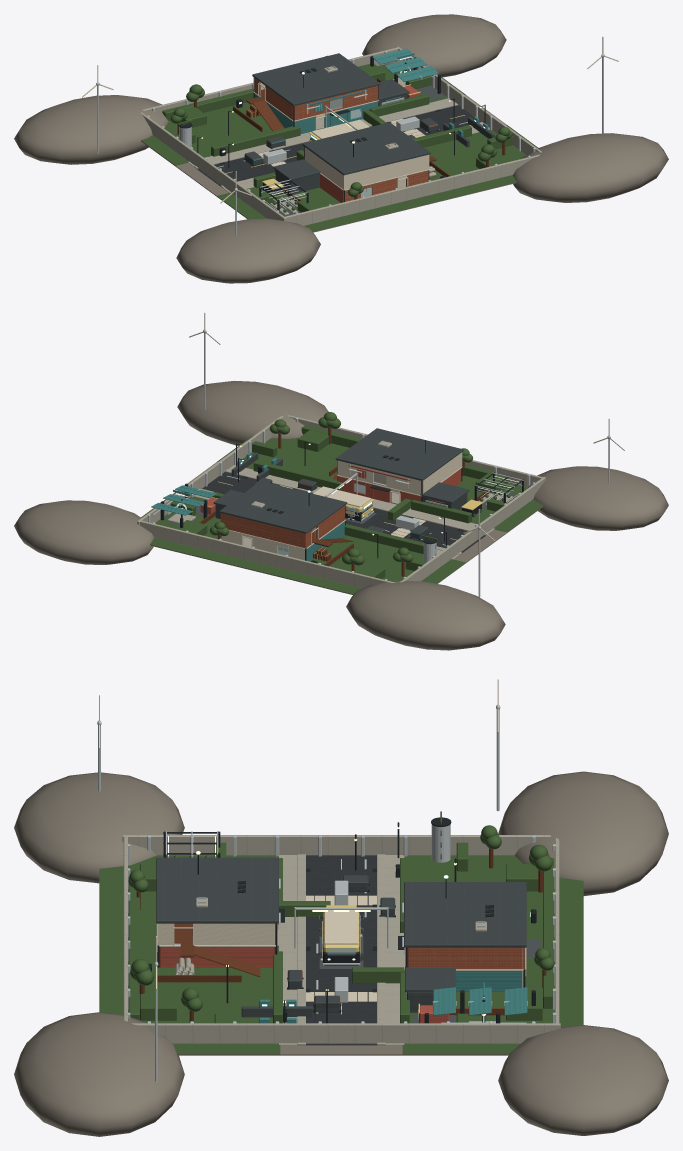
The model's file is atomic-acres-blender-arena.glb.
3 views of the same model, one above another, from view 1: azimuth 30°, elevation 25°; view 2: azimuth 150°, elevation 25°; view 3: azimuth 270°, elevation 25° (orthographic). The views are drawn at different scales.
Visible parts, largest first — view 1: BLD_BATCH_MAT_earth_edge, BLD_BATCH_MAT_roof_shingles, BLD_BATCH_MAT_ground_olive, BLD_BATCH_MAT_boundary_warm_concrete, BLD_BATCH_MAT_foliage_military, BLD_BATCH_MAT_brushed_alloy, BLD_BATCH_MAT_aqua_oxidized, BLD_BATCH_MAT_concrete_weathered, BLD_BATCH_MAT_asphalt_charcoal, BLD_BATCH_MAT_coral_upper_plaster, BLD_BATCH_MAT_trim_bone, BLD_BATCH_MAT_concrete_dark (+4 smaller); view 2: BLD_BATCH_MAT_earth_edge, BLD_BATCH_MAT_roof_shingles, BLD_BATCH_MAT_boundary_warm_concrete, BLD_BATCH_MAT_ground_olive, BLD_BATCH_MAT_foliage_military, BLD_BATCH_MAT_brushed_alloy, BLD_BATCH_MAT_asphalt_charcoal, BLD_BATCH_MAT_concrete_weathered, BLD_BATCH_MAT_aqua_upper_brick, BLD_BATCH_MAT_trim_bone, BLD_BATCH_MAT_coral_upper_plaster, BLD_BATCH_MAT_gunmetal (+5 smaller); view 3: BLD_BATCH_MAT_earth_edge, BLD_BATCH_MAT_ground_olive, BLD_BATCH_MAT_roof_shingles, BLD_BATCH_MAT_boundary_warm_concrete, BLD_BATCH_MAT_foliage_military, BLD_BATCH_MAT_concrete_weathered, BLD_BATCH_MAT_asphalt_charcoal, BLD_BATCH_MAT_brushed_alloy, BLD_BATCH_MAT_aqua_oxidized, BLD_BATCH_MAT_gunmetal, BLD_BATCH_MAT_trim_bone, BLD_BATCH_MAT_aqua_upper_brick (+5 smaller).
Boxes of the visible parts, bbox=[...] form: BLD_BATCH_MAT_earth_edge: bbox=[14, 14, 668, 283]; BLD_BATCH_MAT_roof_shingles: bbox=[252, 53, 430, 180]; BLD_BATCH_MAT_ground_olive: bbox=[141, 64, 538, 231]; BLD_BATCH_MAT_boundary_warm_concrete: bbox=[141, 46, 541, 225]; BLD_BATCH_MAT_foliage_military: bbox=[162, 55, 512, 212]; BLD_BATCH_MAT_brushed_alloy: bbox=[96, 51, 604, 235]; BLD_BATCH_MAT_aqua_oxidized: bbox=[253, 48, 488, 160]; BLD_BATCH_MAT_concrete_weathered: bbox=[187, 98, 489, 215]; BLD_BATCH_MAT_asphalt_charcoal: bbox=[197, 105, 480, 186]; BLD_BATCH_MAT_coral_upper_plaster: bbox=[304, 147, 429, 189]; BLD_BATCH_MAT_trim_bone: bbox=[82, 36, 618, 203]; BLD_BATCH_MAT_concrete_dark: bbox=[244, 94, 494, 193]; BLD_BATCH_MAT_earth_edge: bbox=[14, 380, 668, 650]; BLD_BATCH_MAT_roof_shingles: bbox=[213, 428, 469, 533]; BLD_BATCH_MAT_boundary_warm_concrete: bbox=[137, 415, 545, 588]; BLD_BATCH_MAT_ground_olive: bbox=[141, 436, 543, 594]; BLD_BATCH_MAT_foliage_military: bbox=[170, 412, 516, 579]; BLD_BATCH_MAT_brushed_alloy: bbox=[147, 330, 610, 597]; BLD_BATCH_MAT_asphalt_charcoal: bbox=[202, 472, 485, 552]; BLD_BATCH_MAT_concrete_weathered: bbox=[194, 465, 512, 559]; BLD_BATCH_MAT_aqua_upper_brick: bbox=[220, 506, 344, 548]; BLD_BATCH_MAT_trim_bone: bbox=[189, 312, 624, 551]; BLD_BATCH_MAT_coral_upper_plaster: bbox=[337, 452, 462, 494]; BLD_BATCH_MAT_gunmetal: bbox=[160, 440, 523, 563]; BLD_BATCH_MAT_earth_edge: bbox=[14, 771, 668, 1136]; BLD_BATCH_MAT_ground_olive: bbox=[99, 855, 583, 1054]; BLD_BATCH_MAT_roof_shingles: bbox=[156, 857, 526, 992]; BLD_BATCH_MAT_boundary_warm_concrete: bbox=[122, 835, 560, 1043]; BLD_BATCH_MAT_foliage_military: bbox=[128, 811, 554, 1023]; BLD_BATCH_MAT_concrete_weathered: bbox=[175, 854, 404, 1045]; BLD_BATCH_MAT_asphalt_charcoal: bbox=[306, 855, 376, 1045]; BLD_BATCH_MAT_brushed_alloy: bbox=[97, 705, 556, 1082]; BLD_BATCH_MAT_aqua_oxidized: bbox=[259, 877, 527, 1023]; BLD_BATCH_MAT_gunmetal: bbox=[148, 817, 536, 1023]; BLD_BATCH_MAT_trim_bone: bbox=[99, 679, 526, 1018]; BLD_BATCH_MAT_aqua_upper_brick: bbox=[407, 947, 525, 969].
Size of the model in its own units: 116 by 30.15 by 92.
29 materials, 20 textured.
